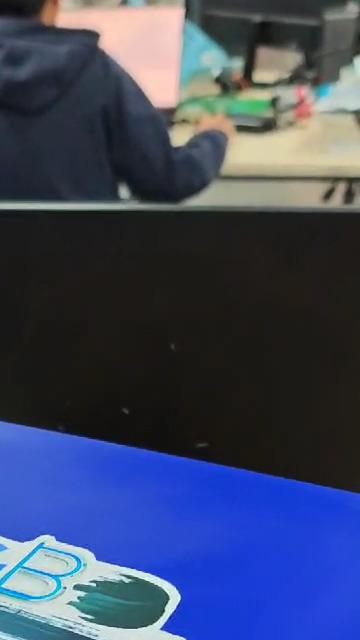B_R1: (0, 491, 304, 640)
